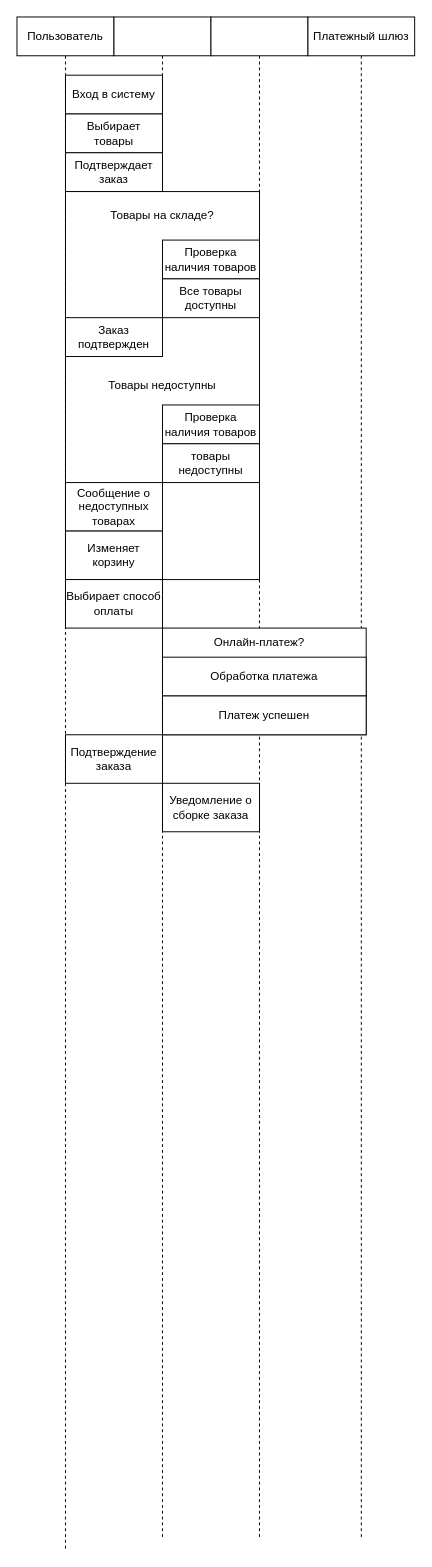
Image size: 432x1567. Some labels were removed from this diagram. Here are the shapes that lost their labels. From the top down, the box of each, then its label:
(113, 16, 211, 1540): Система
(210, 16, 308, 1540): Склад
